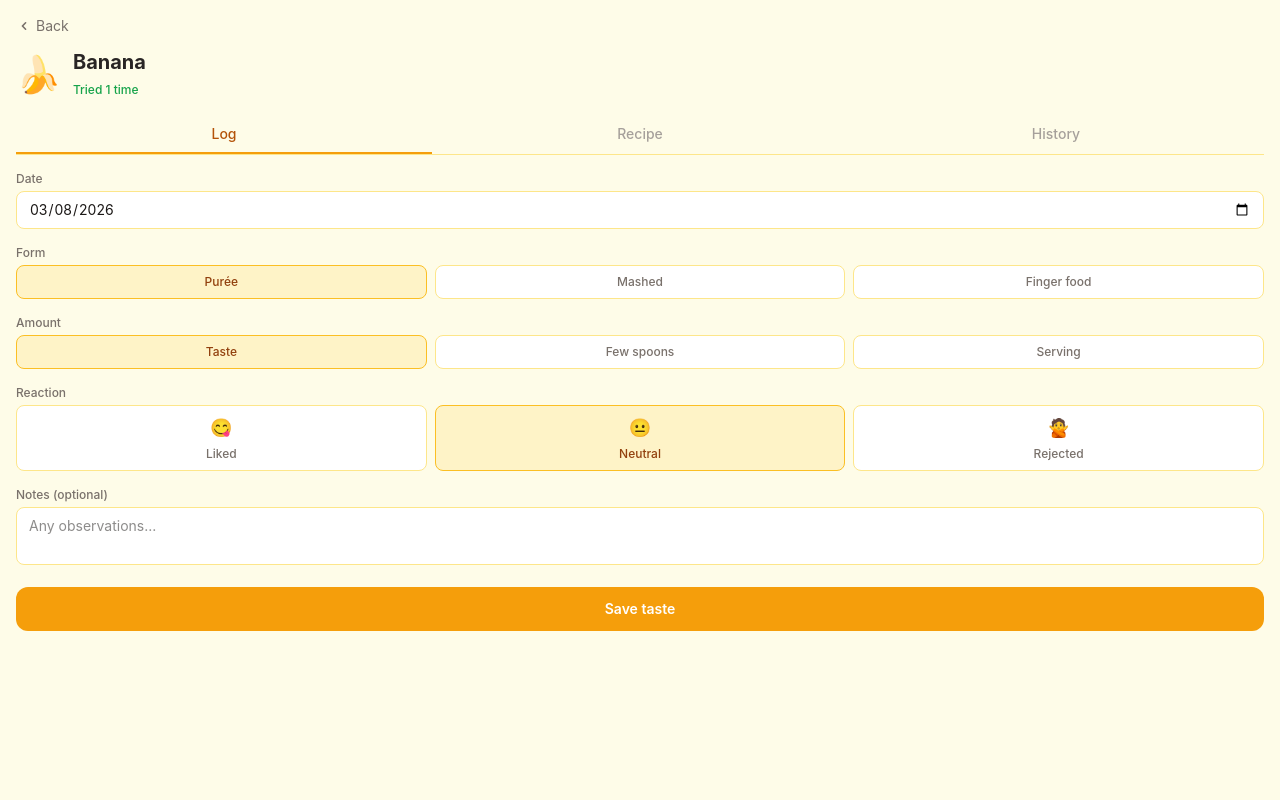
deleting a log via the UI › clicking delete shows confirmation buttons
Click the button "History": [1056, 135] box [848, 116, 1264, 154]
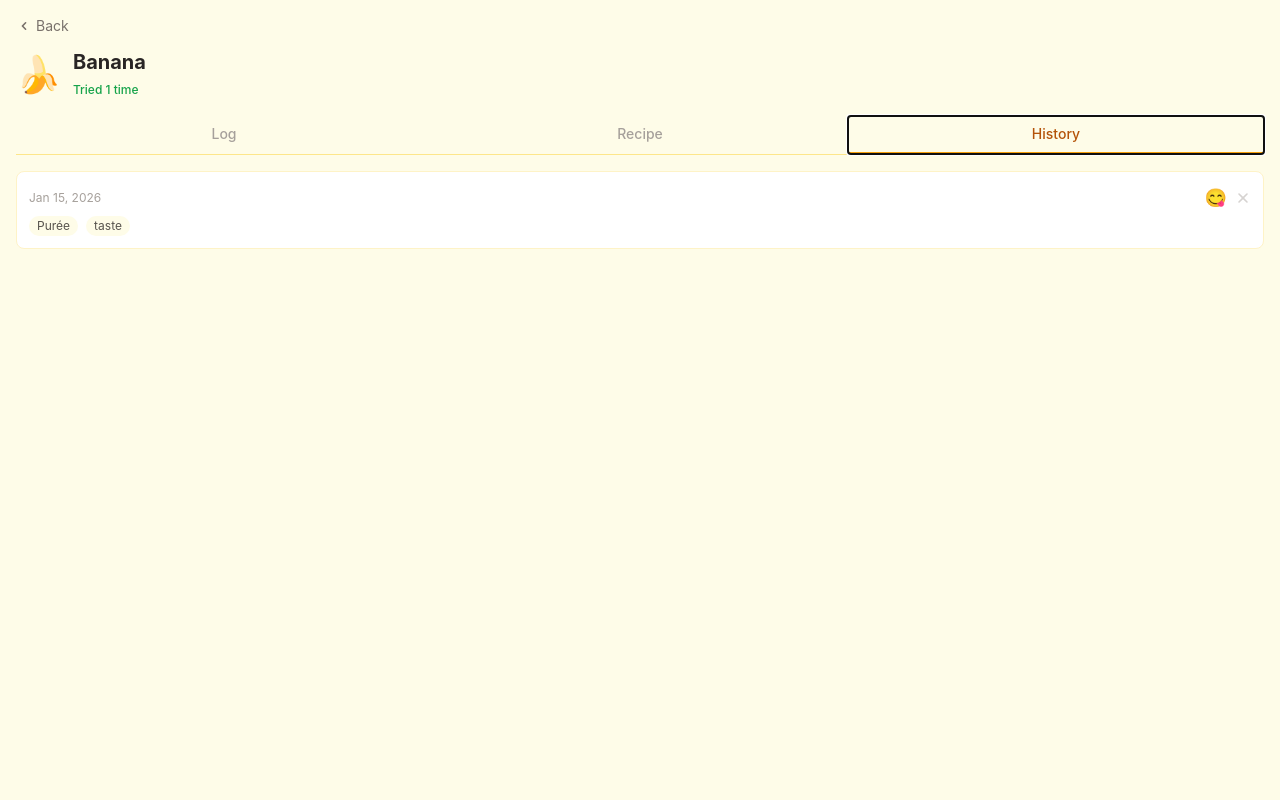
Click the button named "Delete log": [1243, 198] box [1235, 190, 1251, 206]
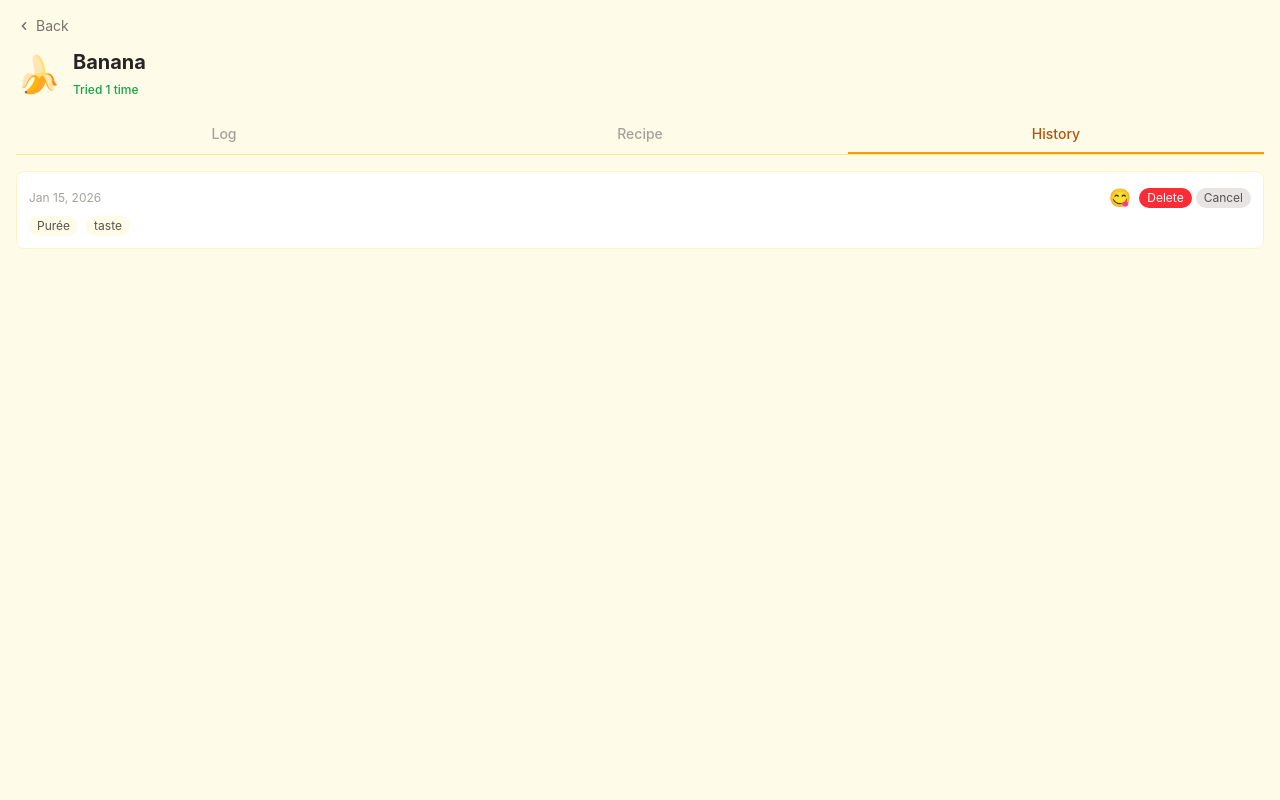
expect the button "Delete" is shown: met, box [1139, 188, 1192, 208]
expect the button "Cancel" is shown: met, box [1196, 188, 1251, 208]
